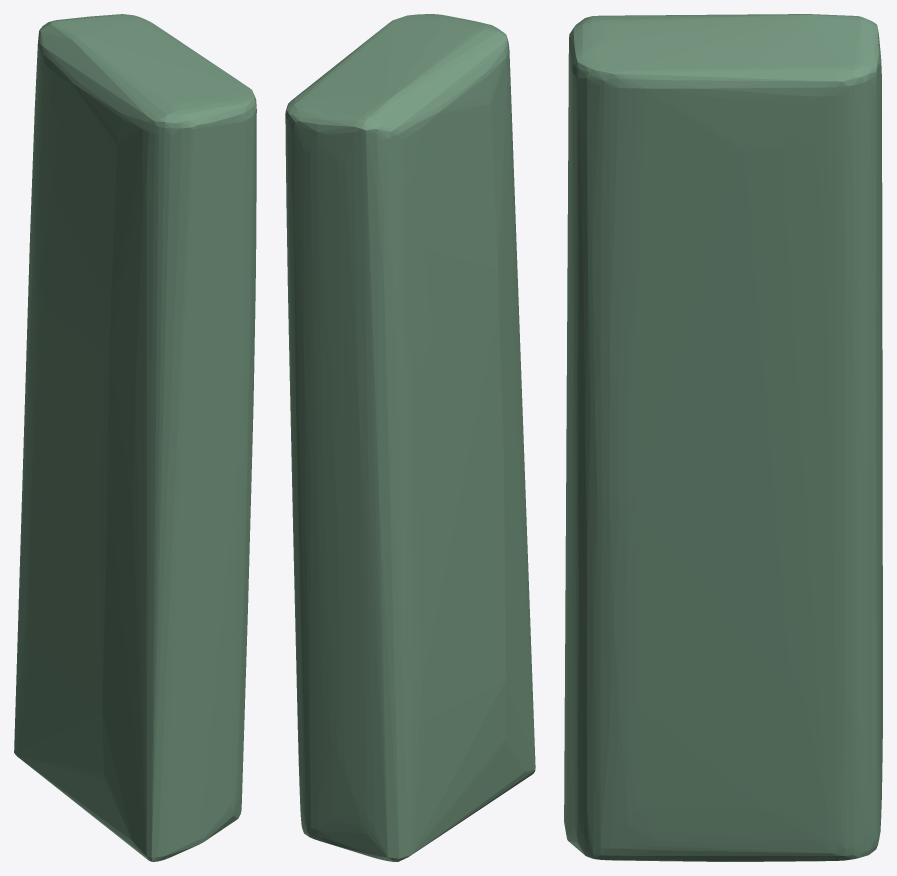
Rendered from coacd_collision.obj.
3 views of the same model, side by side, from view 1: azimuth 30°, elevation 25°; view 2: azimuth 150°, elevation 25°; view 3: azimuth 270°, elevation 25° (orthographic). The views are drawn at different scales.
Parts seen in each view (by area): view 1: geometry_0; view 2: geometry_0; view 3: geometry_0.
Boxes of the visible parts, <box> form: geometry_0: <box>14,14,256,861</box>; geometry_0: <box>285,14,535,861</box>; geometry_0: <box>564,14,882,861</box>.
Size of the model in its own units: 43.53 by 227 by 79.33.
